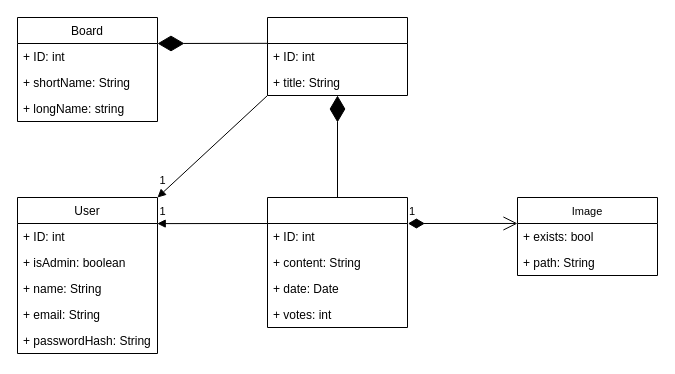
This 675x374 diagram has some shape labels left out. Here are the shapes that lost their labels. From the top down, the box of each, then its label:
(266, 16, 408, 96): Thread
(266, 196, 408, 328): Reply
